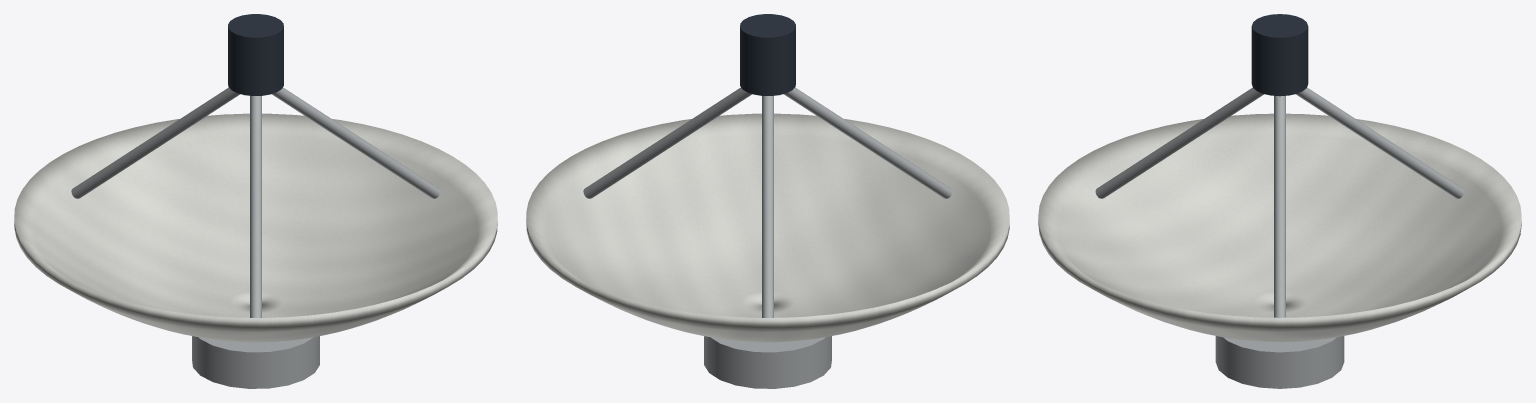
File: medium_high_gain_antenna.glb
The picture shows the model from 3 angles, left to right: view 1: azimuth 30°, elevation 25°; view 2: azimuth 150°, elevation 25°; view 3: azimuth 270°, elevation 25°; orthographic projection.
Parts seen in each view (by area): view 1: Parabolic_Reflector, Mount_Base, Feed_Horn, Feed_Strut.002, Feed_Strut, Feed_Strut.001; view 2: Parabolic_Reflector, Mount_Base, Feed_Horn, Feed_Strut.001, Feed_Strut, Feed_Strut.002; view 3: Parabolic_Reflector, Mount_Base, Feed_Horn, Feed_Strut, Feed_Strut.001, Feed_Strut.002.
Boxes of the visible parts, <box> form: Parabolic_Reflector: <box>14,113,497,342</box>; Mount_Base: <box>192,336,319,388</box>; Feed_Horn: <box>228,14,283,95</box>; Feed_Strut.002: <box>250,96,261,317</box>; Feed_Strut: <box>271,87,440,198</box>; Feed_Strut.001: <box>71,87,240,198</box>; Parabolic_Reflector: <box>526,113,1009,342</box>; Mount_Base: <box>704,336,831,388</box>; Feed_Horn: <box>740,14,795,95</box>; Feed_Strut.001: <box>762,96,773,317</box>; Feed_Strut: <box>583,87,752,198</box>; Feed_Strut.002: <box>783,87,952,198</box>; Parabolic_Reflector: <box>1038,113,1521,342</box>; Mount_Base: <box>1215,336,1344,388</box>; Feed_Horn: <box>1251,14,1308,96</box>; Feed_Strut: <box>1274,96,1285,317</box>; Feed_Strut.001: <box>1296,87,1464,198</box>; Feed_Strut.002: <box>1095,87,1263,198</box>.
Size of the model in its own units: 1.2 by 0.92 by 1.2.
Materials: 3 (1 with a texture image).
